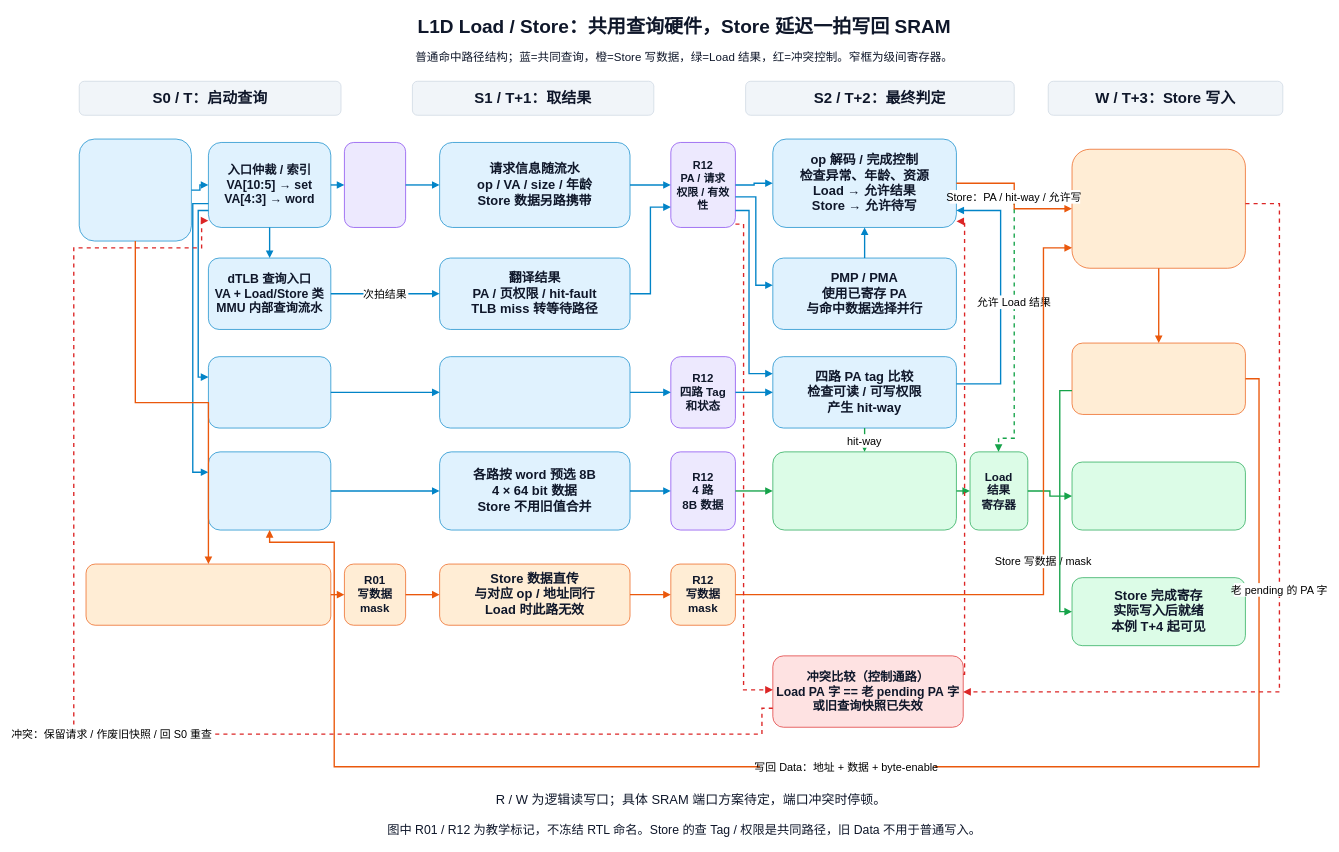
This 1339x852 diagram has some shape labels left out. The box of each missing label's shape, as (x1, y1, x2, y2) in pixels:
Data SRAM：4 路 读口 R：发查询 写口 W：字节写使能: (208, 451, 331, 530)
Data 写口控制 按 mask 写，不读改写 写入后更新 M 状态: (1071, 342, 1245, 414)
Load 命中路 MUX hit-way 选出 64 bit 按 size 提取 / 扩展: (772, 451, 956, 530)
Load 结果可见 S2 拍末进入结果寄存 T+3 起可见: (1071, 461, 1245, 530)
LSU 请求 Load 或 Store VA / size Store 数据 + mask: (79, 138, 191, 241)
pending-store 寄存器 已选 way / set / word PA / 写数据 / byte mask S2 拍末进入，本拍待写: (1071, 149, 1245, 268)
R01 请求 寄存器: (344, 142, 406, 227)
Tag / 状态 SRAM 4 路，共同读端口 Store 也必须查命中: (208, 356, 331, 428)
写数据 + byte mask 由 LSU 产生 普通 Store 不读改写: (85, 563, 331, 625)
四路 Tag / 状态 同步读输出 在 S1 保存: (439, 356, 630, 428)
